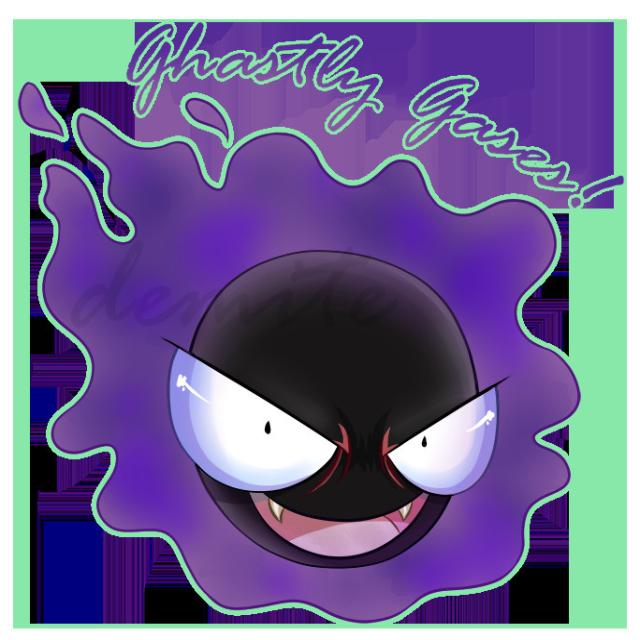Gastly: (168, 252, 484, 566)
